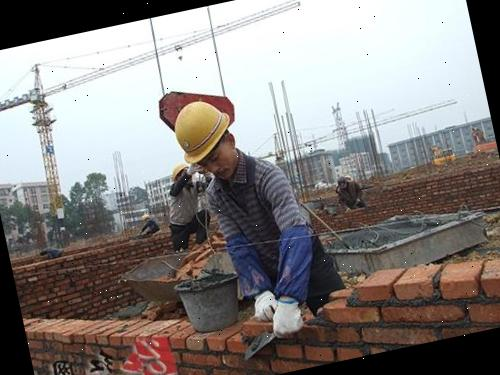helmet: (166, 92, 240, 167)
no_wear: (215, 162, 304, 288), (162, 173, 204, 230)
